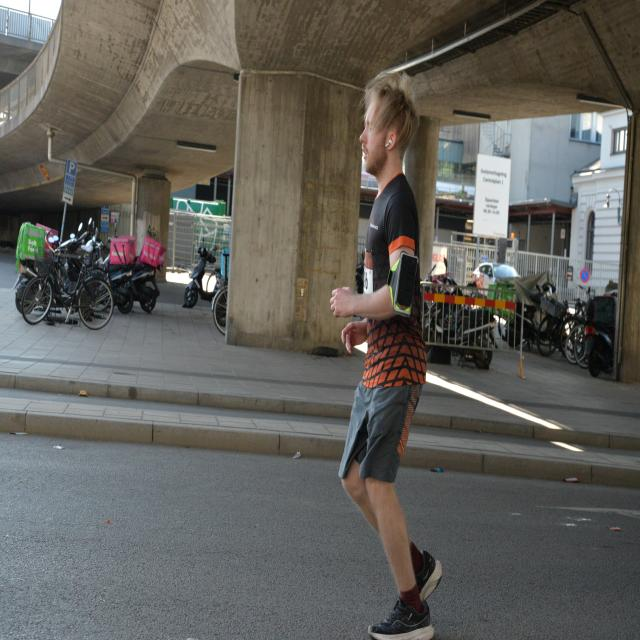runner-detect: (321, 72, 458, 634)
